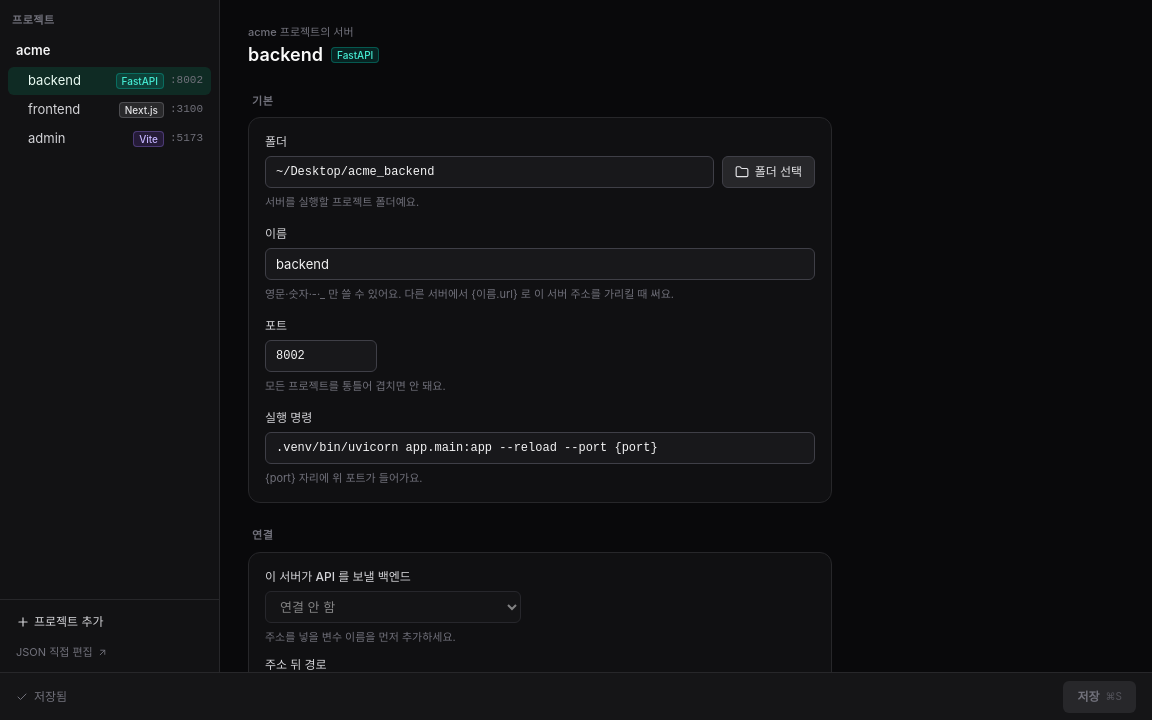
it: SettingsApp — 저장 › 저장하면 save_config 에 편집한 설정 전체와 불러온 revision 을 보내고, 토스트를 띄운 뒤 '저장됨' 으로 돌아온다
Expected: the heading "backend" is shown, [248,40,323,68]
Replace the text in the field labelled "포트" with "8010" at (321, 356), box [265,340,377,372]
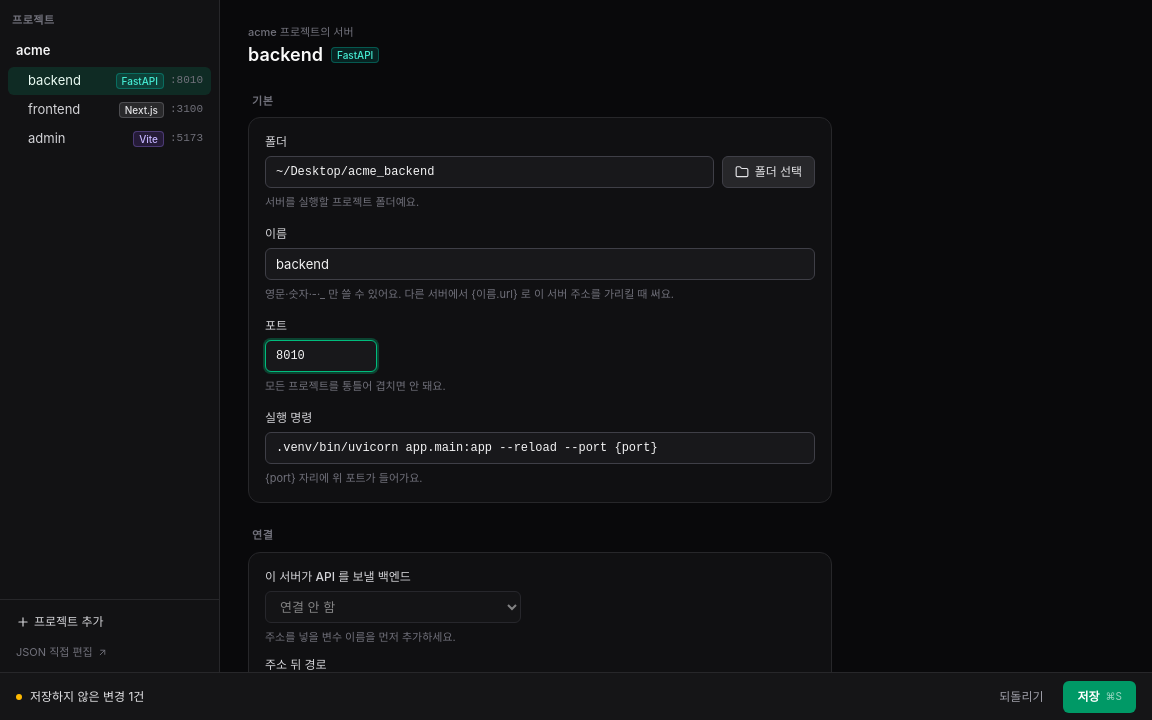
Click the button "저장 ⌘S" at (1100, 696), box [1064,680,1136,712]
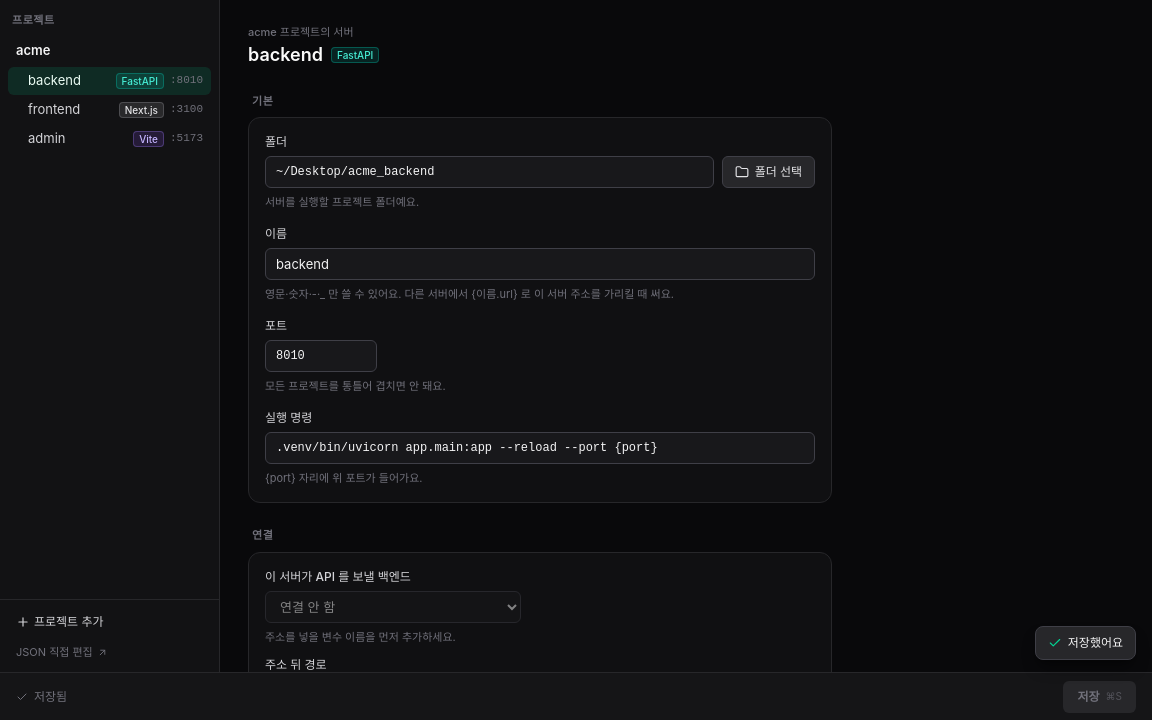
Result: the text "저장했어요" is shown at [1035,626,1136,660]
Result: the text "저장됨" is shown at [16,688,67,704]
